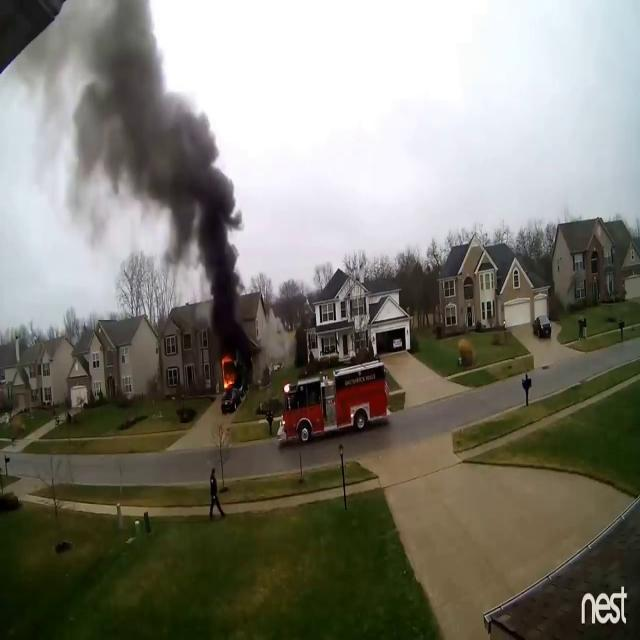Fire: (220, 351, 237, 397)
Smoke: (62, 1, 244, 344), (254, 292, 296, 378)
